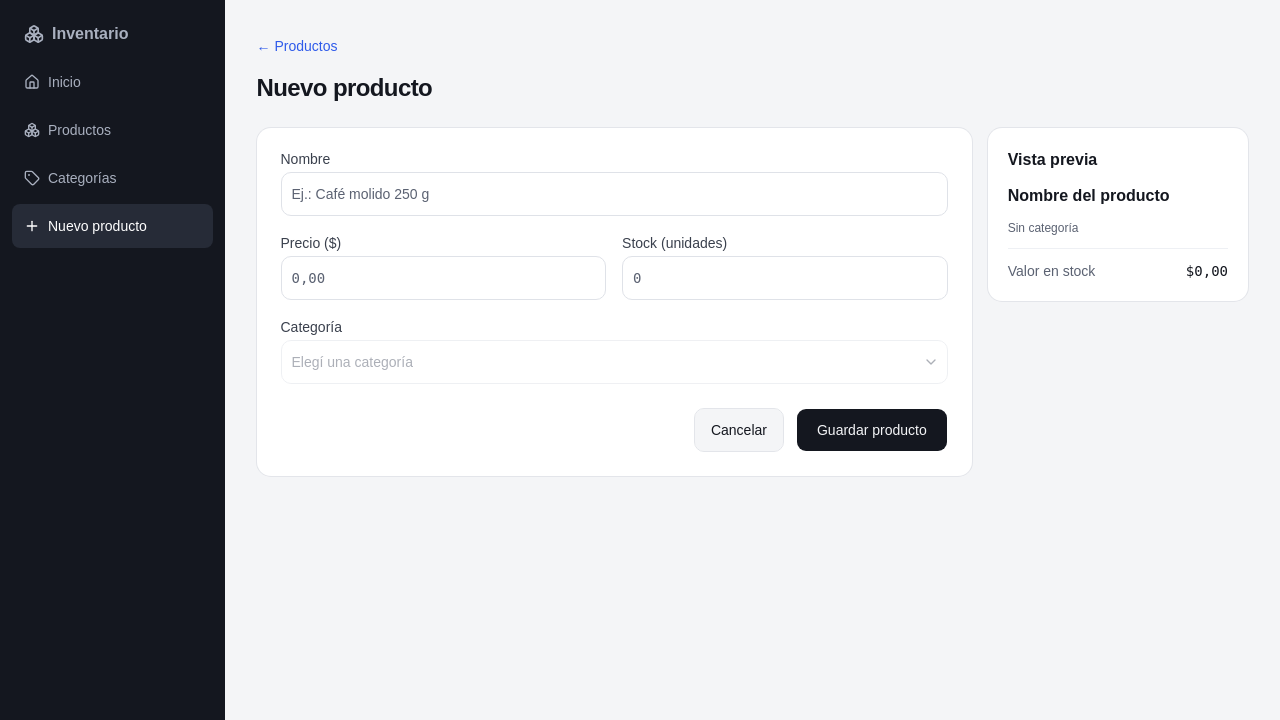
Scenario: NewProductPage › CA5: si el POST falla avisa y conserva lo escrito
The image size is (1280, 720).
Type "  Mouse  " into the field labelled "Nombre".
click(614, 194); type("  Mouse  ")  # box [280,172,948,216]
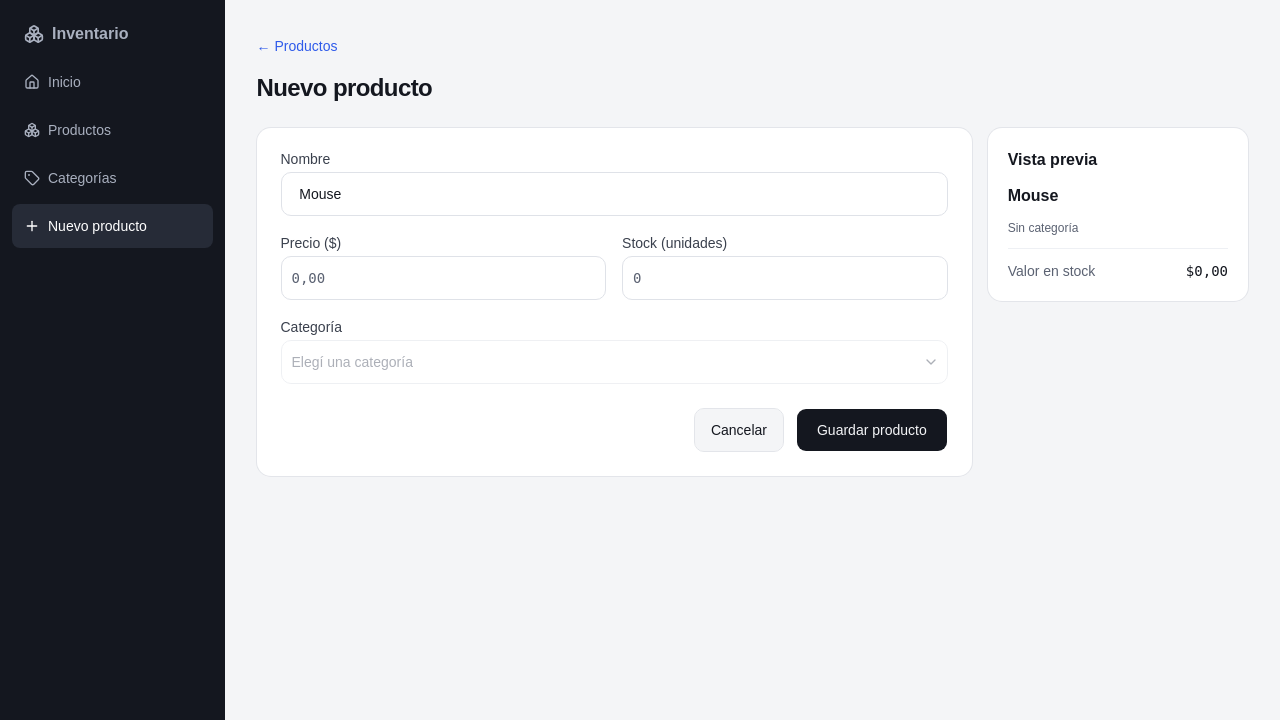
Type "2.5" into the number field labelled "Precio ($)".
click(443, 278); type("2.5")  # box [280,256,606,300]
Type "5" into the number field labelled "Stock (unidades)".
click(785, 278); type("5")  # box [622,256,948,300]
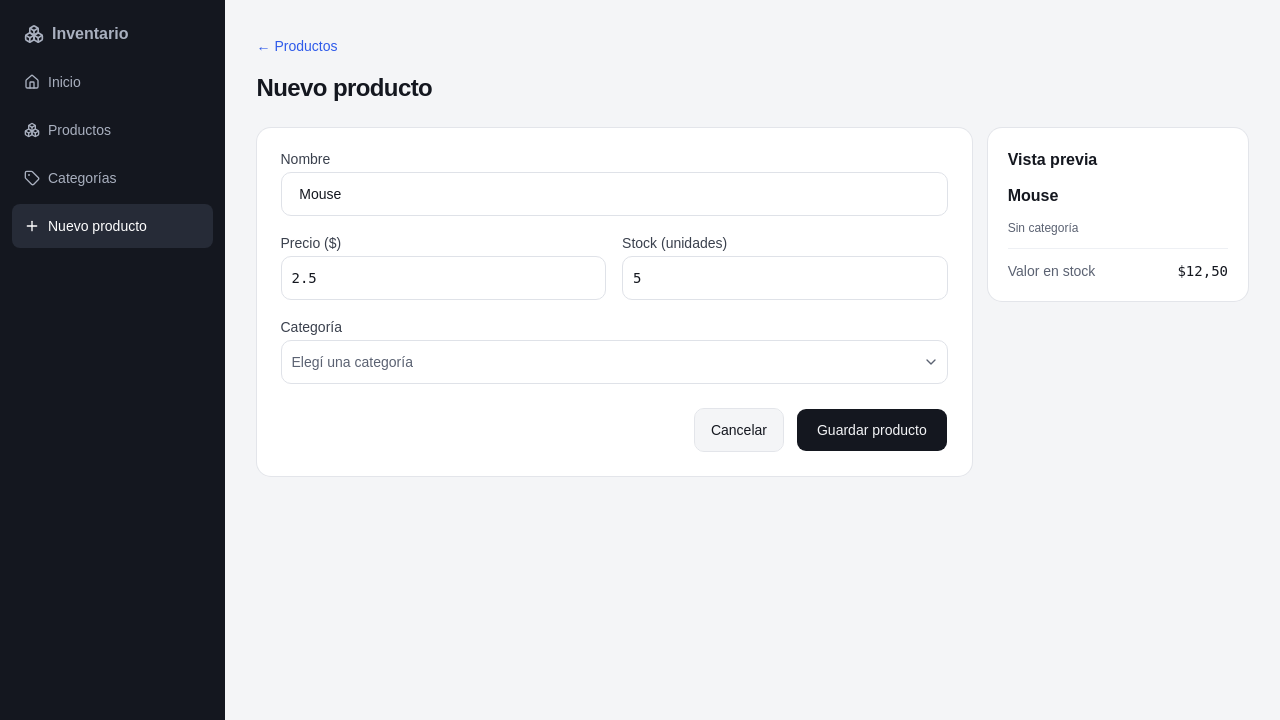
Check: the dropdown labelled "categoría" is enabled
Press Enter in the dropdown labelled "categoría", box [280,340,948,384]
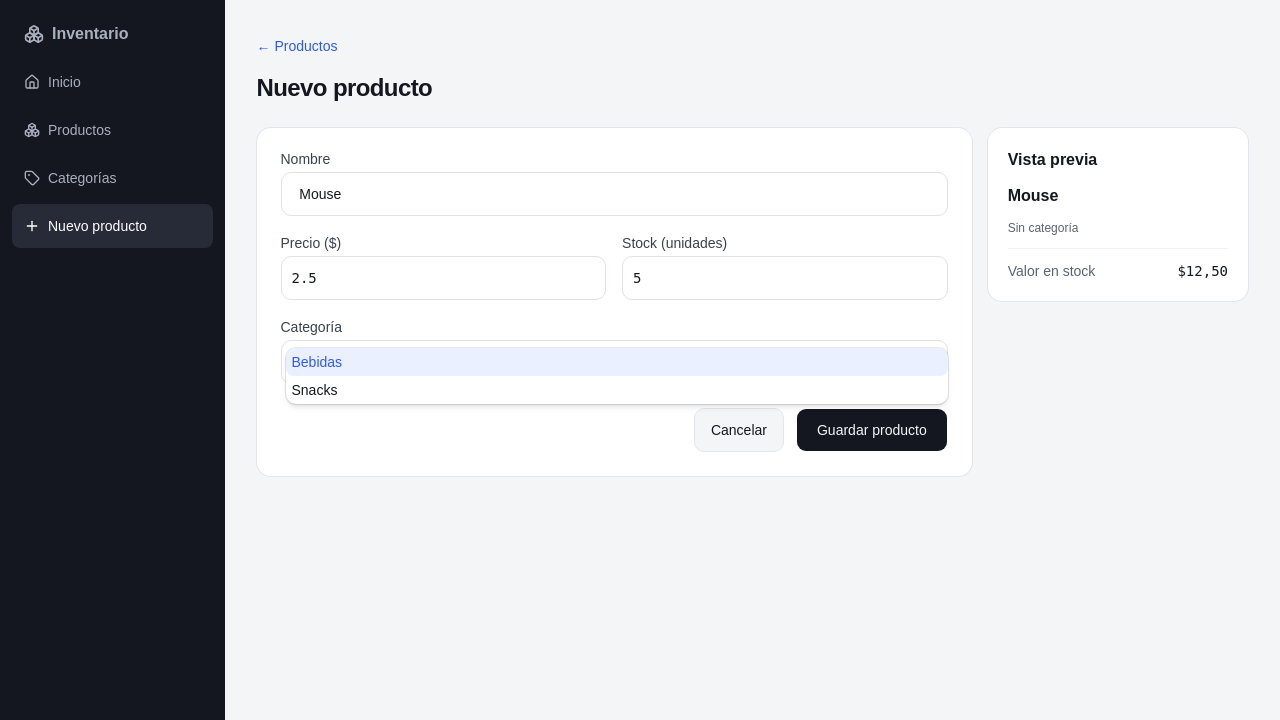
Click the option "Snacks".
click(314, 390)  # box [292,382,337,398]
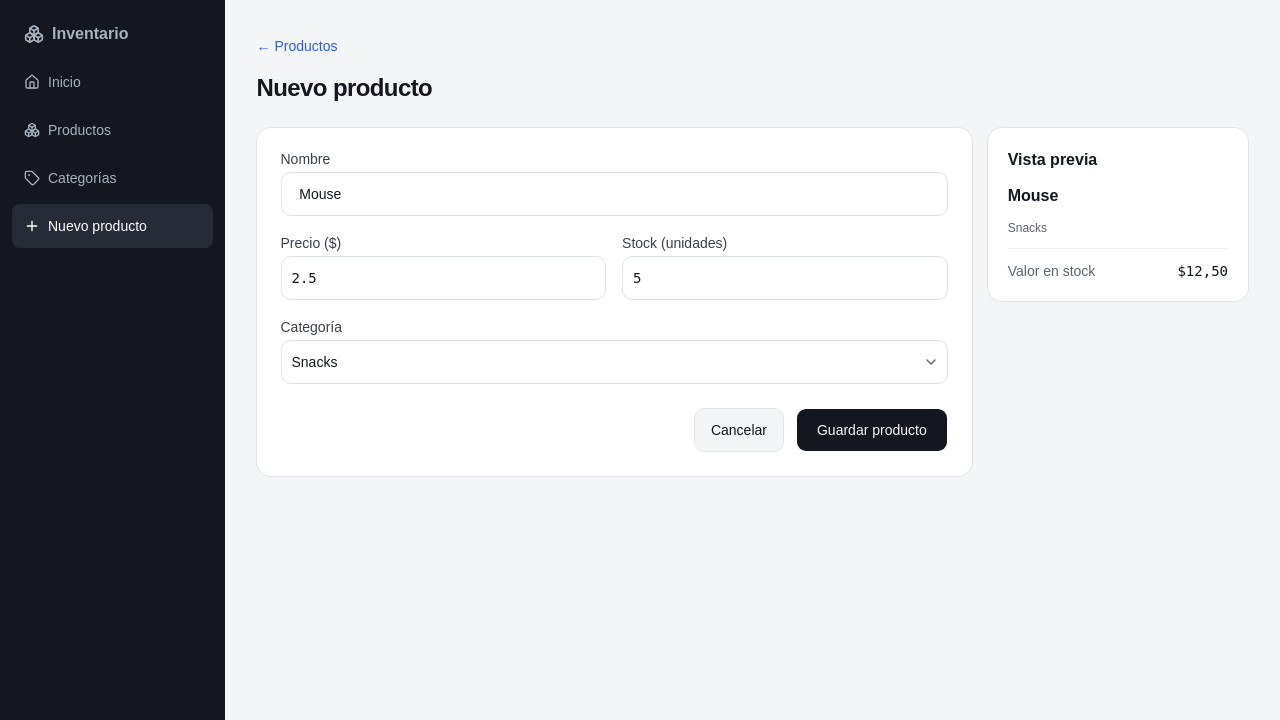
Click the button "Guardar producto".
click(872, 430)  # box [796,408,948,452]
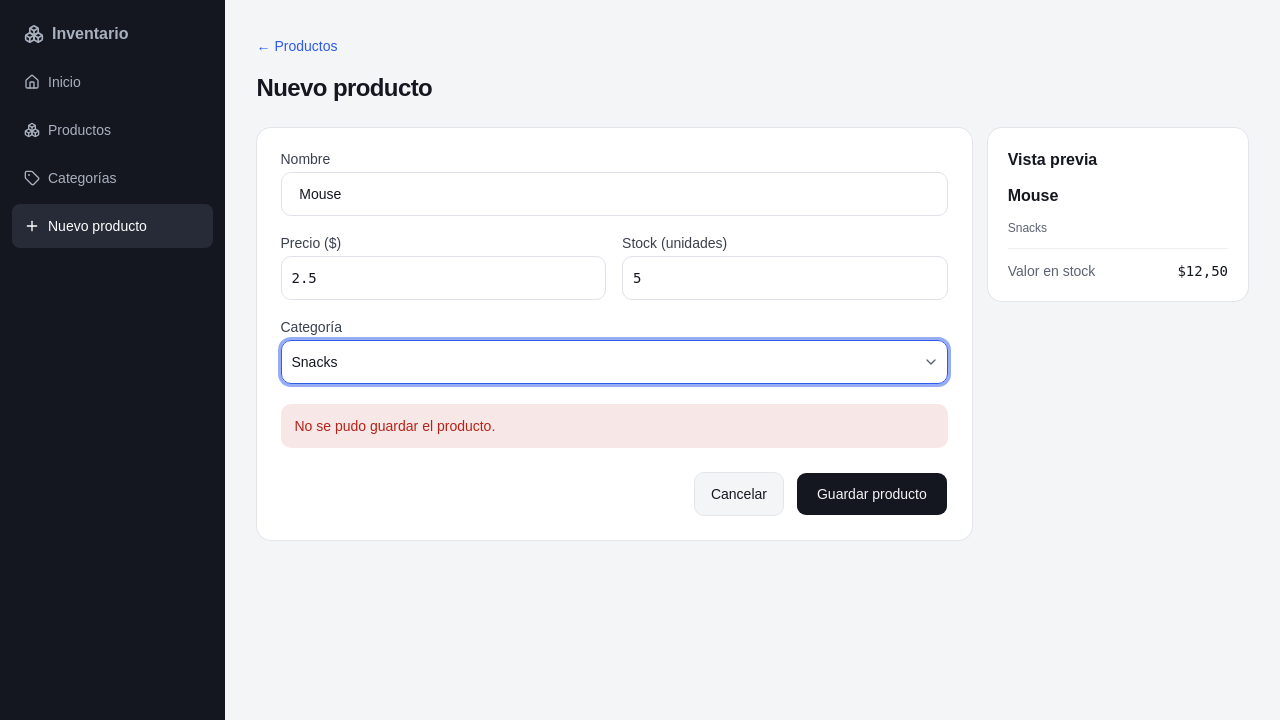
Check: the dropdown named "Categoría" reads "Snacks", box [280,340,948,384]
Check: the message reads "No se pudo guardar el producto.", box [294,418,495,434]
Replace the text in the field labelled "Nombre" with "Otro" at (614, 194), box [280,172,948,216]
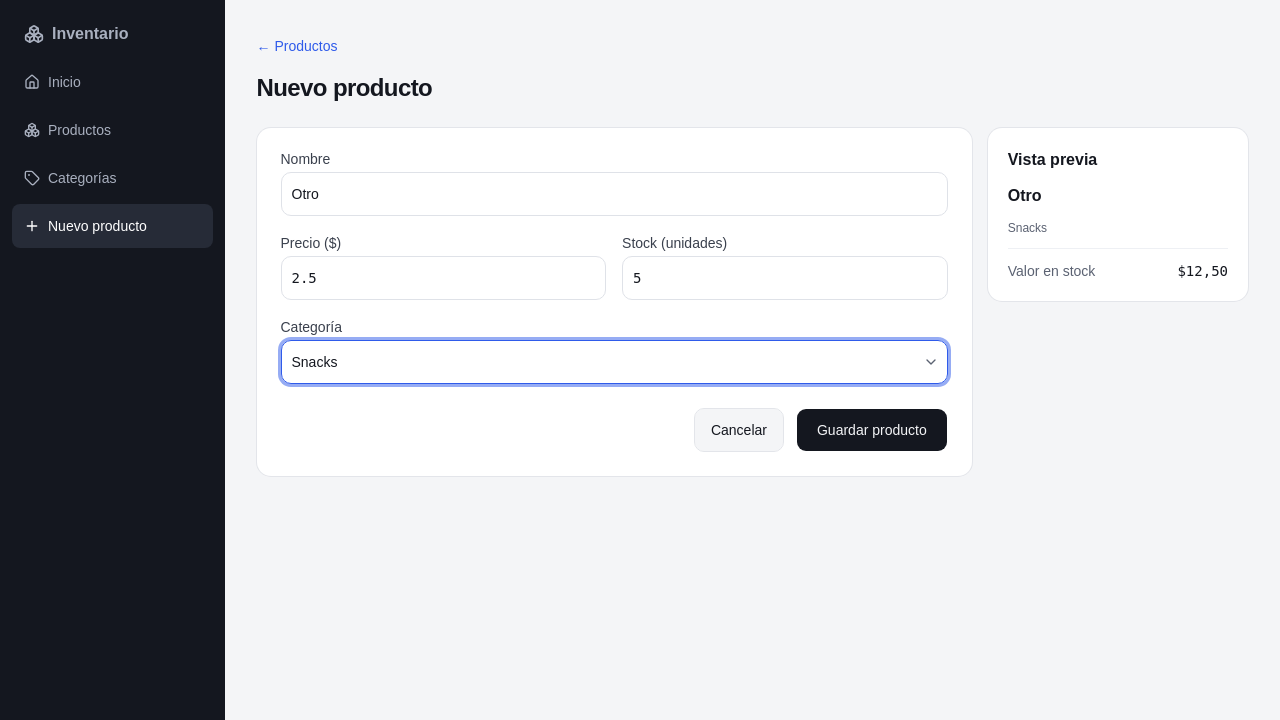
Check: the message "No se pudo guardar el producto." is gone
